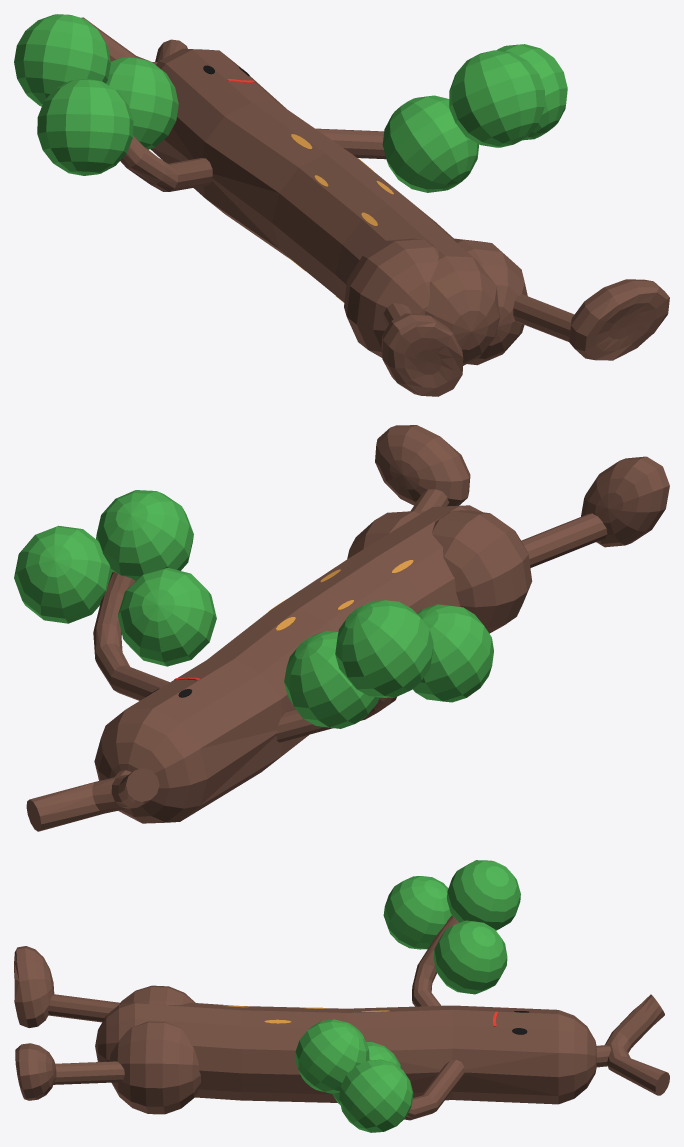
Rendered from Men_accessory_Sudowoodo.fbx.
3 renders of one model, top to bottom at view 1: azimuth 30°, elevation 25°; view 2: azimuth 150°, elevation 25°; view 3: azimuth 270°, elevation 25°, orthographic. The views are drawn at different scales.
Visible parts, largest first — view 1: imagetostl_mesh0, imagetostl_mesh16, imagetostl_mesh14, imagetostl_mesh18, imagetostl_mesh1, imagetostl_mesh15, imagetostl_mesh8, imagetostl_mesh7, imagetostl_mesh17, imagetostl_mesh2, imagetostl_mesh12, imagetostl_mesh19 (+3 smaller); view 2: imagetostl_mesh0, imagetostl_mesh1, imagetostl_mesh15, imagetostl_mesh18, imagetostl_mesh19, imagetostl_mesh14, imagetostl_mesh16, imagetostl_mesh8, imagetostl_mesh7, imagetostl_mesh17, imagetostl_mesh11, imagetostl_mesh13 (+3 smaller); view 3: imagetostl_mesh0, imagetostl_mesh2, imagetostl_mesh19, imagetostl_mesh17, imagetostl_mesh15, imagetostl_mesh14, imagetostl_mesh16, imagetostl_mesh11, imagetostl_mesh7, imagetostl_mesh8, imagetostl_mesh13, imagetostl_mesh3 (+4 smaller).
Part boxes in pixels (left/top/right/bottom): imagetostl_mesh0: left=150, top=48, right=500, bottom=365; imagetostl_mesh16: left=37, top=78, right=133, bottom=175; imagetostl_mesh14: left=449, top=50, right=544, bottom=147; imagetostl_mesh18: left=382, top=95, right=479, bottom=192; imagetostl_mesh1: left=344, top=238, right=438, bottom=357; imagetostl_mesh15: left=14, top=14, right=110, bottom=106; imagetostl_mesh8: left=569, top=279, right=669, bottom=360; imagetostl_mesh7: left=381, top=313, right=463, bottom=396; imagetostl_mesh17: left=106, top=57, right=178, bottom=149; imagetostl_mesh2: left=453, top=238, right=527, bottom=365; imagetostl_mesh12: left=120, top=135, right=212, bottom=191; imagetostl_mesh19: left=497, top=44, right=567, bottom=140; imagetostl_mesh0: left=94, top=505, right=482, bottom=823; imagetostl_mesh1: left=432, top=510, right=532, bottom=633; imagetostl_mesh15: left=335, top=600, right=433, bottom=697; imagetostl_mesh18: left=118, top=568, right=216, bottom=666; imagetostl_mesh19: left=14, top=525, right=111, bottom=623; imagetostl_mesh14: left=96, top=490, right=193, bottom=580; imagetostl_mesh16: left=413, top=604, right=493, bottom=702; imagetostl_mesh8: left=375, top=425, right=470, bottom=505; imagetostl_mesh7: left=581, top=456, right=669, bottom=547; imagetostl_mesh17: left=284, top=630, right=379, bottom=728; imagetostl_mesh11: left=26, top=768, right=159, bottom=831; imagetostl_mesh13: left=93, top=571, right=169, bottom=700; imagetostl_mesh0: left=95, top=1002, right=596, bottom=1104; imagetostl_mesh2: left=109, top=1021, right=200, bottom=1114; imagetostl_mesh19: left=339, top=1059, right=413, bottom=1132; imagetostl_mesh17: left=433, top=920, right=507, bottom=994; imagetostl_mesh15: left=447, top=860, right=520, bottom=930; imagetostl_mesh14: left=295, top=1019, right=369, bottom=1093; imagetostl_mesh16: left=383, top=876, right=451, bottom=949; imagetostl_mesh11: left=605, top=994, right=669, bottom=1095; imagetostl_mesh7: left=14, top=946, right=54, bottom=1027; imagetostl_mesh8: left=15, top=1043, right=56, bottom=1100; imagetostl_mesh13: left=404, top=1059, right=464, bottom=1120; imagetostl_mesh3: left=53, top=1061, right=124, bottom=1084.
Size of the model in its own units: 219 by 98.79 by 334.
